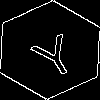Y: (25, 25, 82, 81)
